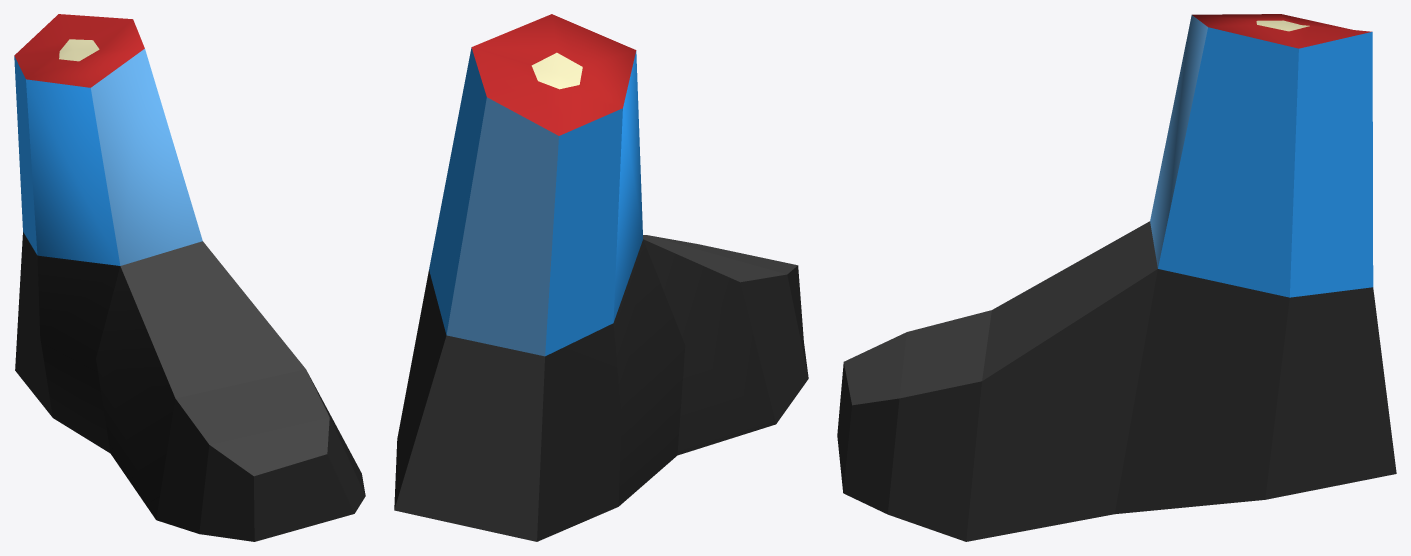
The model's file is LFOOT.fbx.
The picture shows the model from 3 angles, left to right: view 1: azimuth 30°, elevation 25°; view 2: azimuth 150°, elevation 25°; view 3: azimuth 270°, elevation 25°; orthographic projection. The views are drawn at different scales.
Visible parts, largest first — view 1: Cube; view 2: Cube; view 3: Cube.
Part boxes in pixels (left/top/right/bottom): Cube: left=14, top=14, right=365, bottom=541; Cube: left=394, top=14, right=808, bottom=541; Cube: left=837, top=14, right=1396, bottom=541.
Bounding box in the file's own units: 49.77 × 89.15 × 100.
